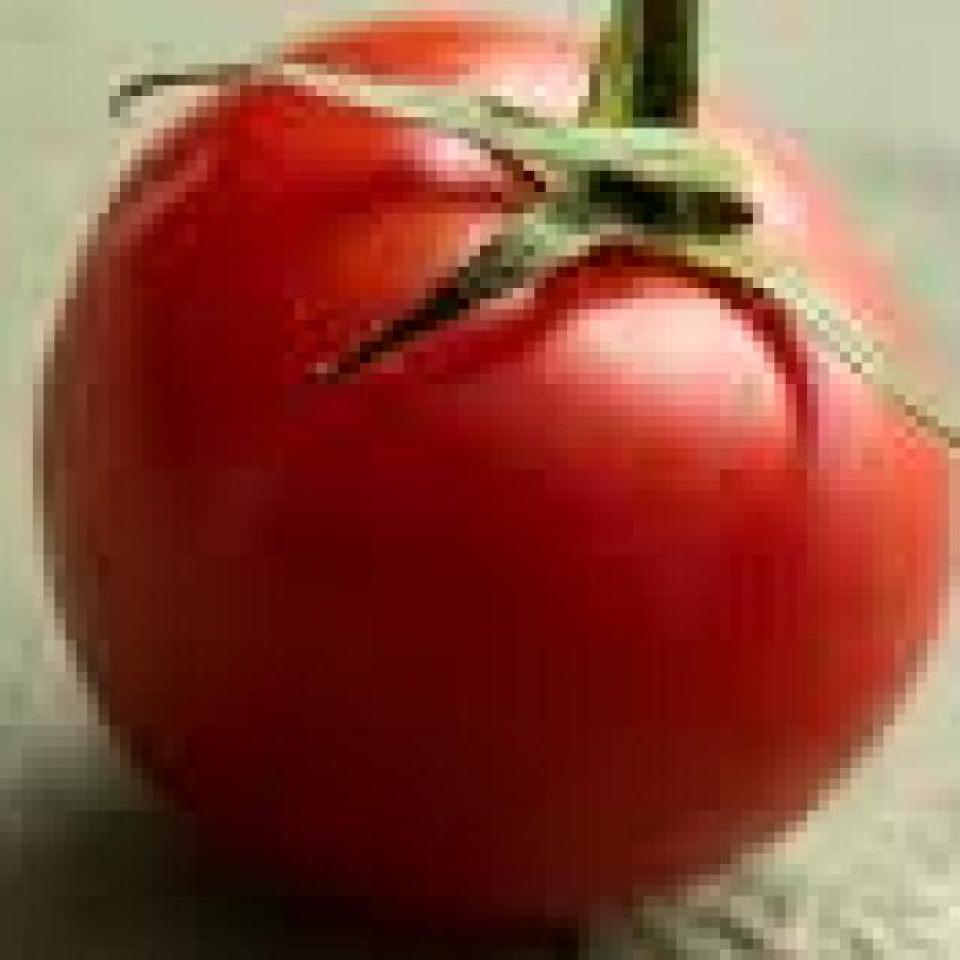Healthy: (42, 14, 953, 942)
